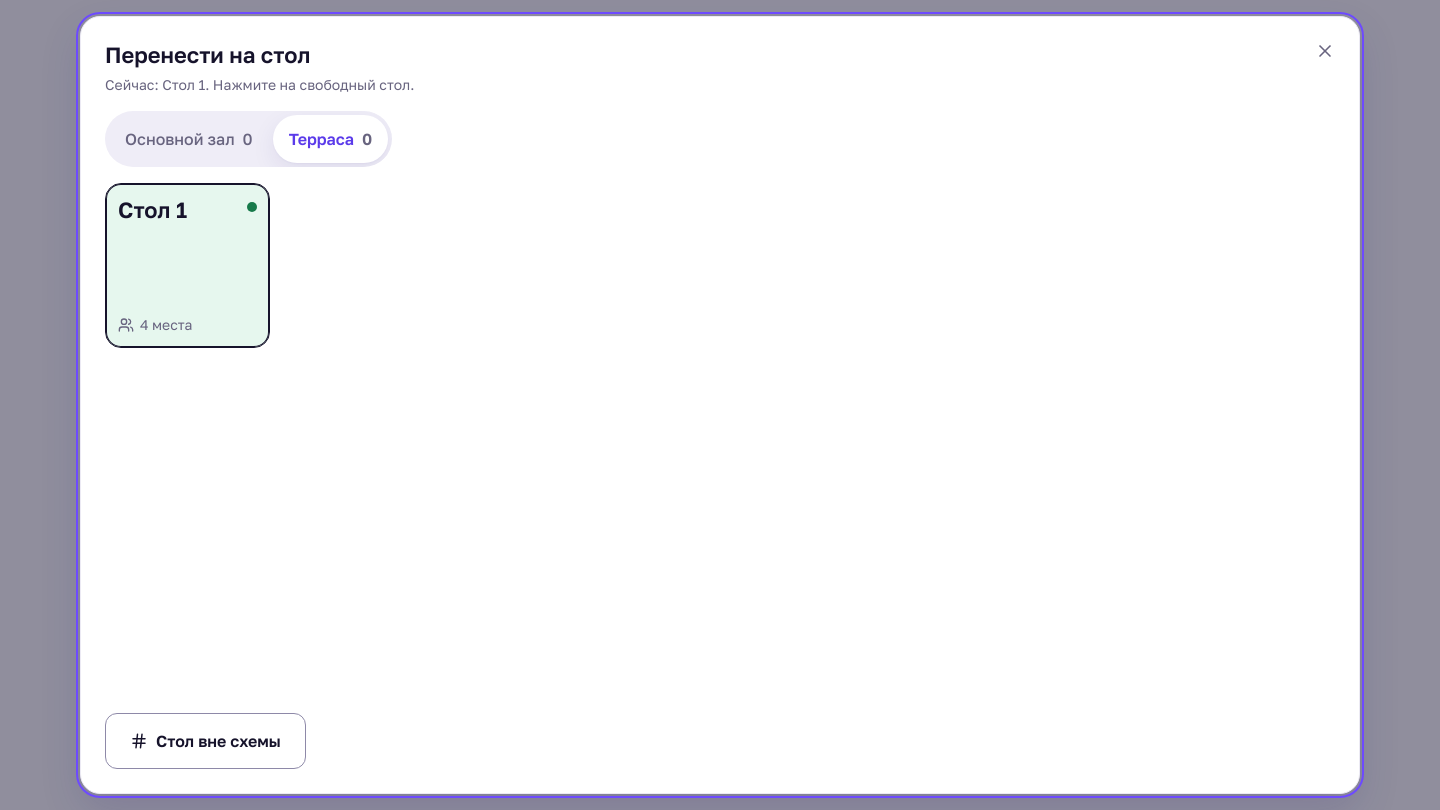
Test case: «Перенести на стол» matches hall + label › marks only the draft's own hall's table and opens on that hall
This screenshot has width=1440, height=810.
Click the tab "Основной зал 0" at (189, 139), box [109, 115, 269, 163]
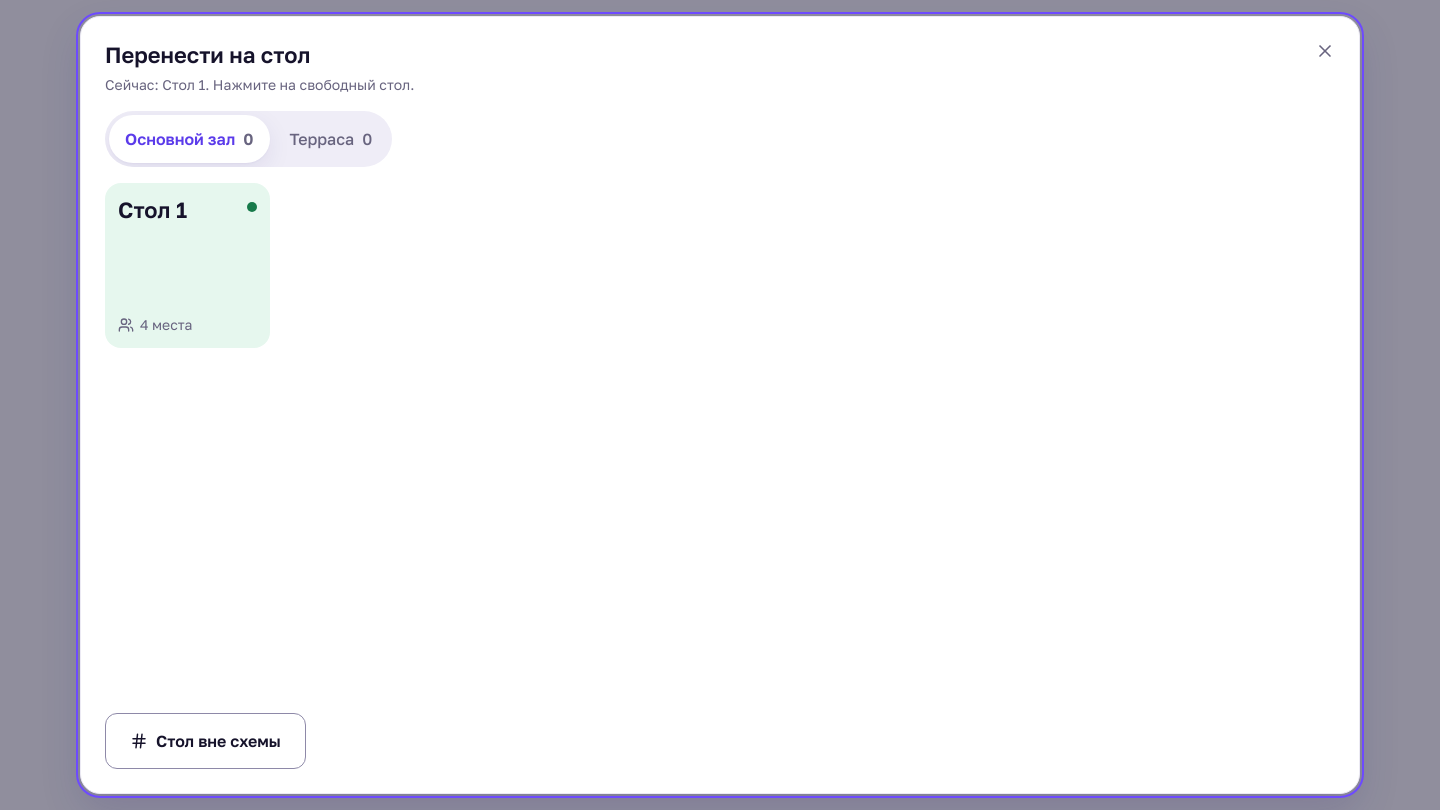
Expected: the button "Стол 1 4 места" is enabled, [105, 183, 270, 348]
